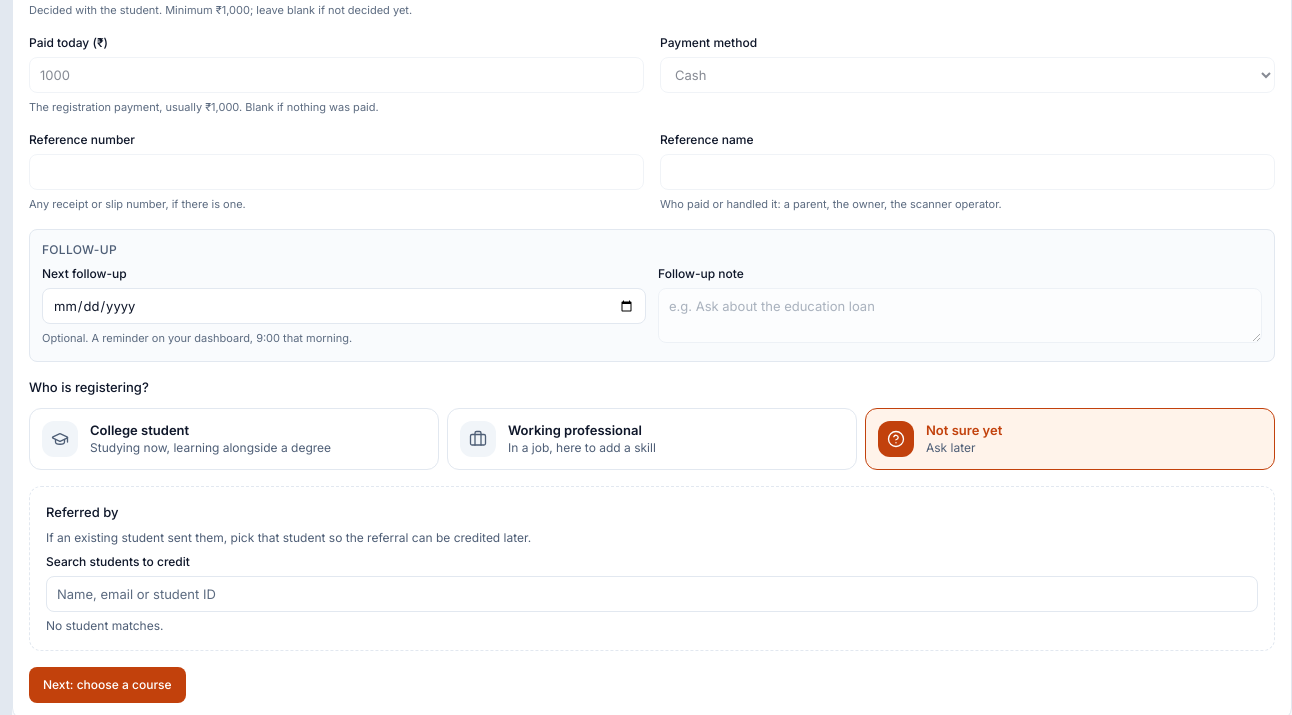
Test: RegistrationWizard — moving through the steps › requires an email and a first name before advancing
(page scrolled)
Click the button "Next: choose a course" at (107, 685), box [29,667,186,703]
(page scrolled)
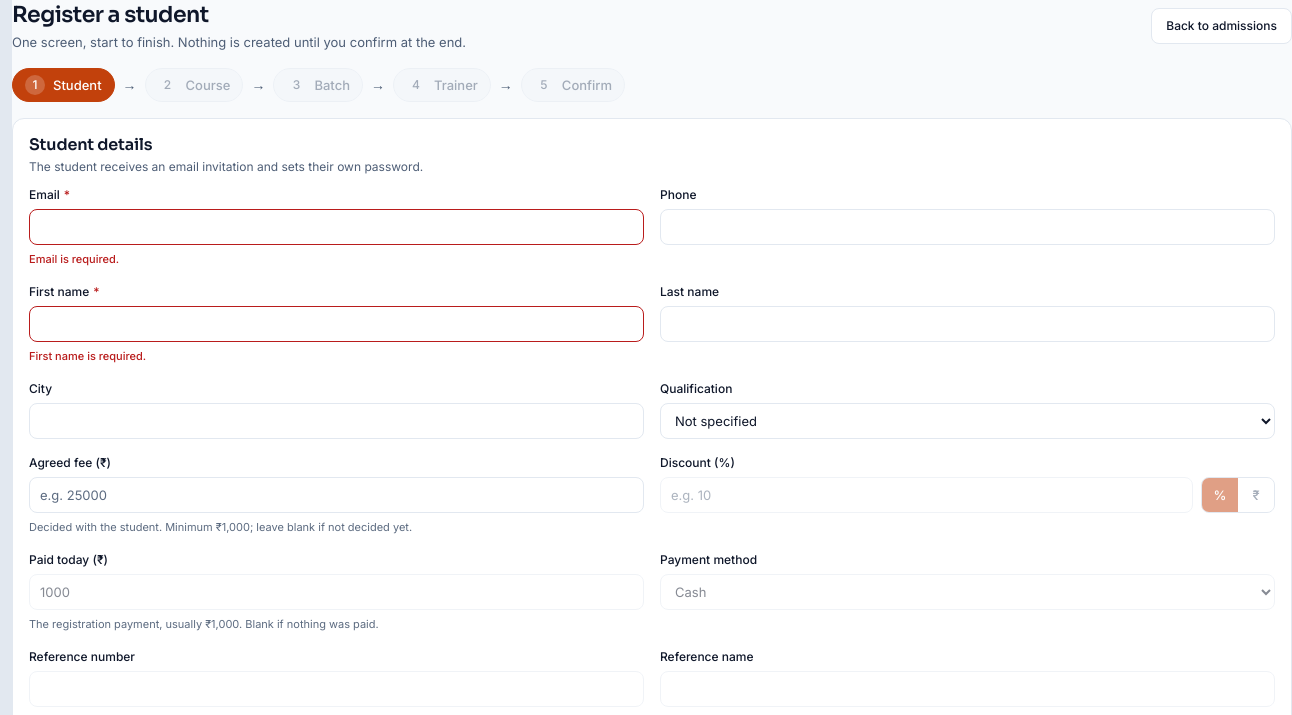
Check: the text "Email is required." is shown, box [29,252,119,266]
Check: the text "First name is required." is shown, box [29,349,146,363]
